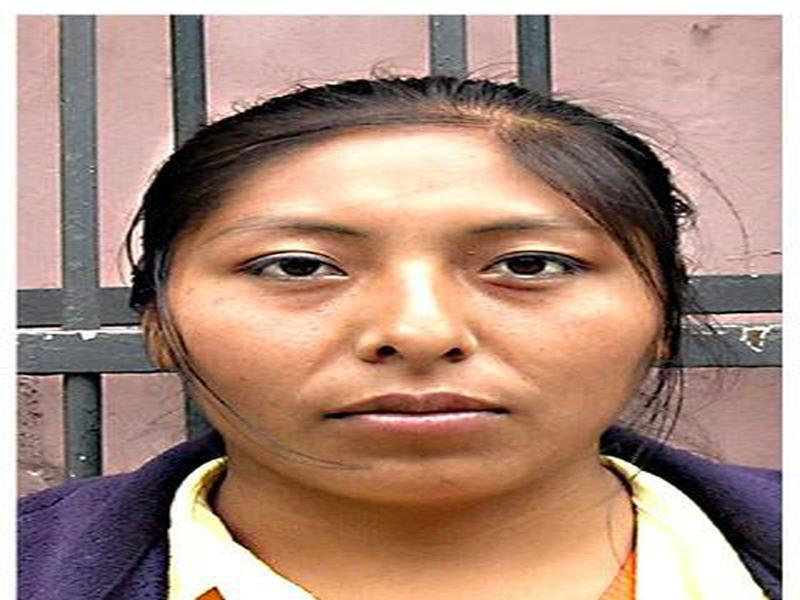without_mask: (174, 155, 636, 499)
